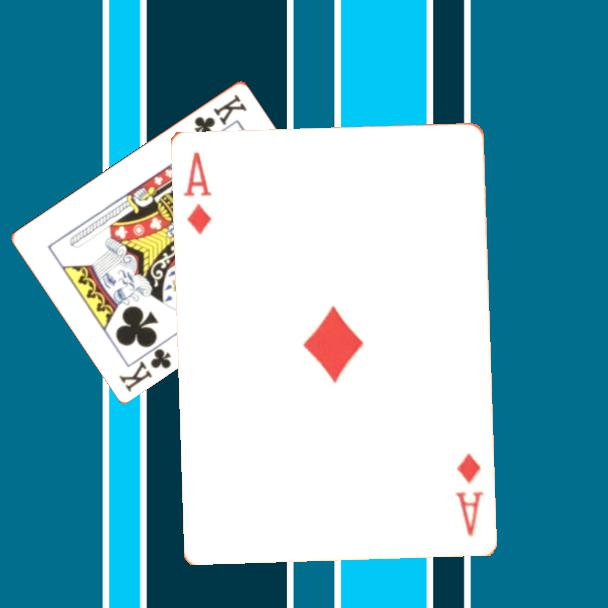c13: (115, 344, 175, 395), (191, 90, 250, 140)
d01: (451, 449, 486, 539), (180, 147, 214, 237)
